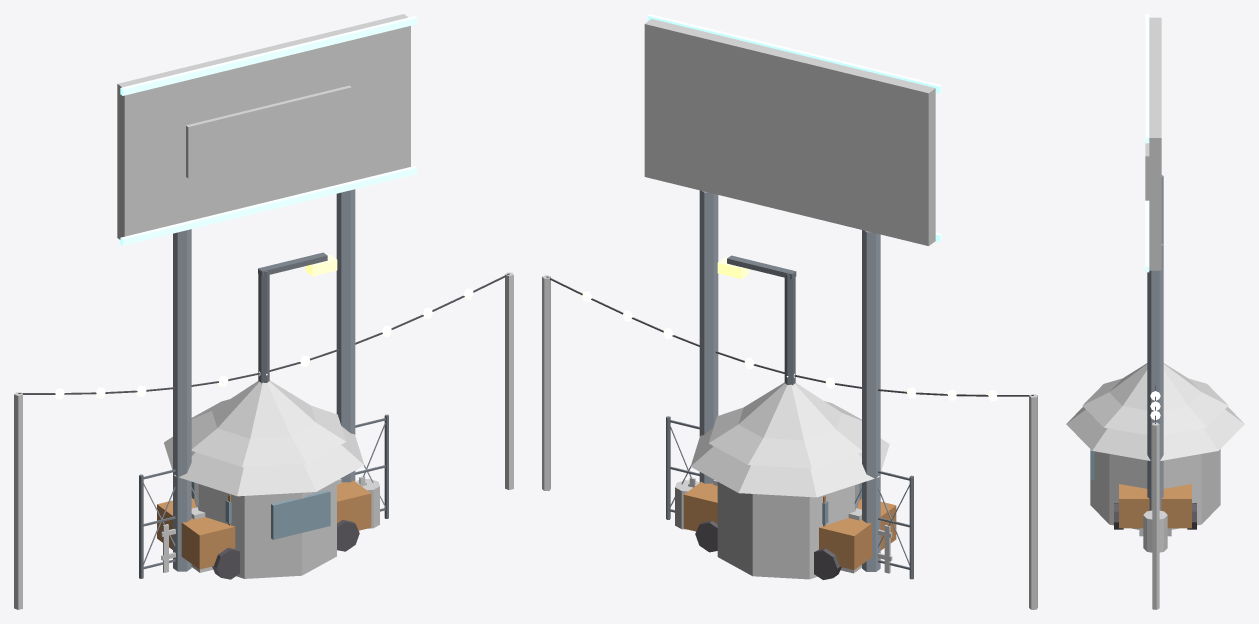
The model's file is common_street_kit.glb.
3 renders of one model, left to right at view 1: azimuth 30°, elevation 25°; view 2: azimuth 150°, elevation 25°; view 3: azimuth 270°, elevation 25°, orthographic. The views are drawn at different scales.
Parts seen in each view (by area): view 1: cp_sign_board, cp_kiosk, cp_string_lights, cp_wreck_car, cp_food_cart, cp_street_lamp, cp_fence_segment; view 2: cp_sign_board, cp_kiosk, cp_string_lights, cp_wreck_car, cp_food_cart, cp_street_lamp, cp_fence_segment; view 3: cp_kiosk, cp_sign_board, cp_food_cart, cp_wreck_car, cp_string_lights, cp_bench_bins.
Boxes of the visible parts, x1,y1,x2,y2 form: cp_sign_board: (117, 14, 417, 571); cp_kiosk: (164, 380, 364, 578); cp_string_lights: (14, 272, 513, 609); cp_wreck_car: (157, 480, 371, 579); cp_food_cart: (191, 399, 346, 467); cp_street_lamp: (258, 252, 337, 383); cp_fence_segment: (139, 414, 388, 578); cp_sign_board: (644, 14, 941, 571); cp_kiosk: (690, 382, 889, 579); cp_string_lights: (542, 275, 1037, 609); cp_wreck_car: (683, 482, 896, 579); cp_food_cart: (709, 401, 861, 468); cp_street_lamp: (717, 255, 796, 385); cp_fence_segment: (666, 416, 913, 579); cp_kiosk: (1066, 363, 1244, 529); cp_sign_board: (1145, 14, 1163, 510); cp_food_cart: (1082, 378, 1228, 434); cp_wreck_car: (1114, 484, 1196, 529); cp_string_lights: (1150, 385, 1160, 609); cp_bench_bins: (1143, 510, 1167, 552).
Size of the model in its own units: 12.19 by 11.65 by 4.4.
